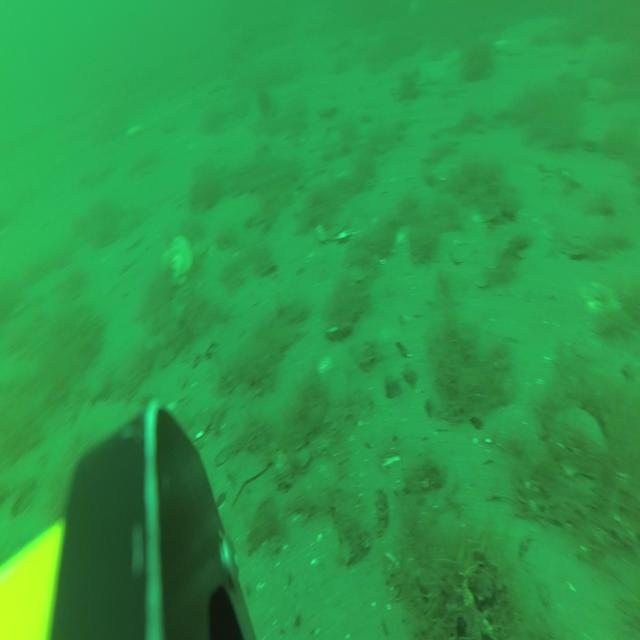scallop: (552, 408, 606, 477), (161, 236, 193, 288), (315, 212, 353, 244), (319, 97, 336, 117)
starfish: (417, 60, 452, 84)
